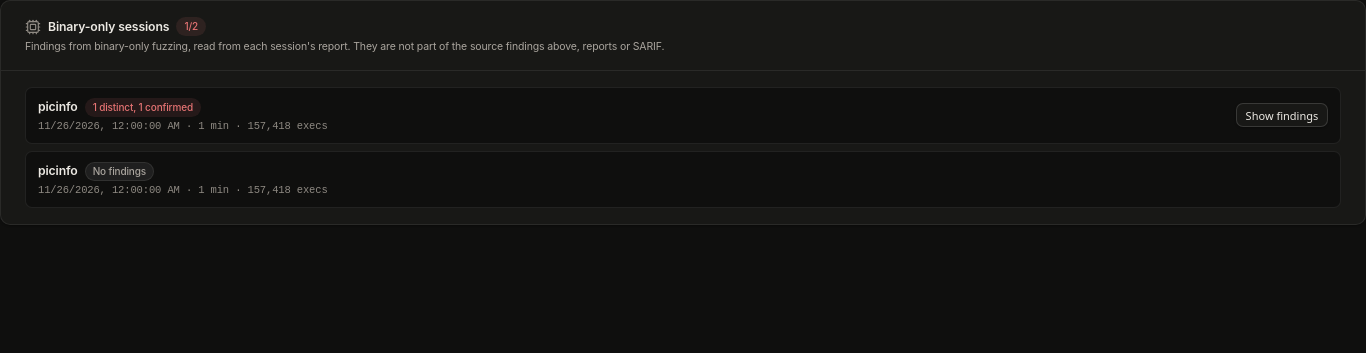
BinaryTriageSection › lists sessions with their finding counts and opens a session's findings
The image size is (1366, 353).
Click the button "Show findings" at coordinates (1282, 115), box [1236,103,1328,127]
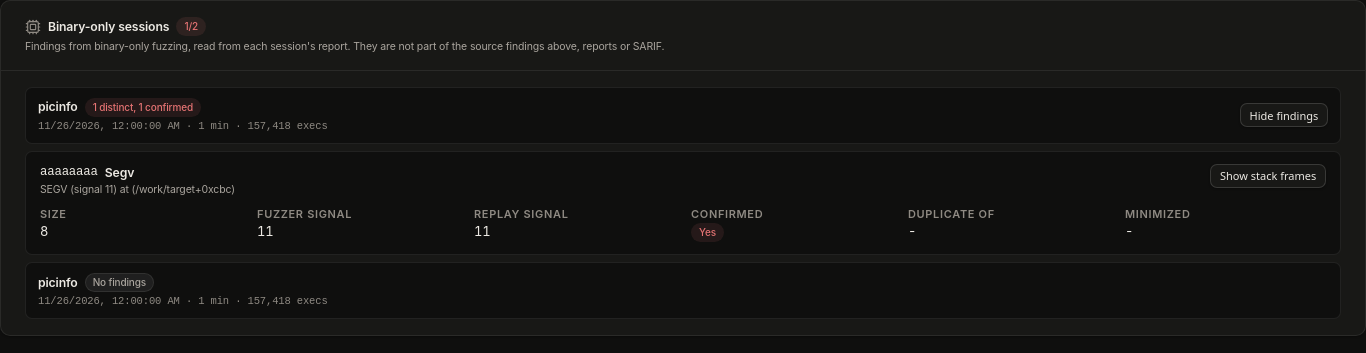
Now the text "SEGV (signal 11)" is shown, box [40,183,235,196]
